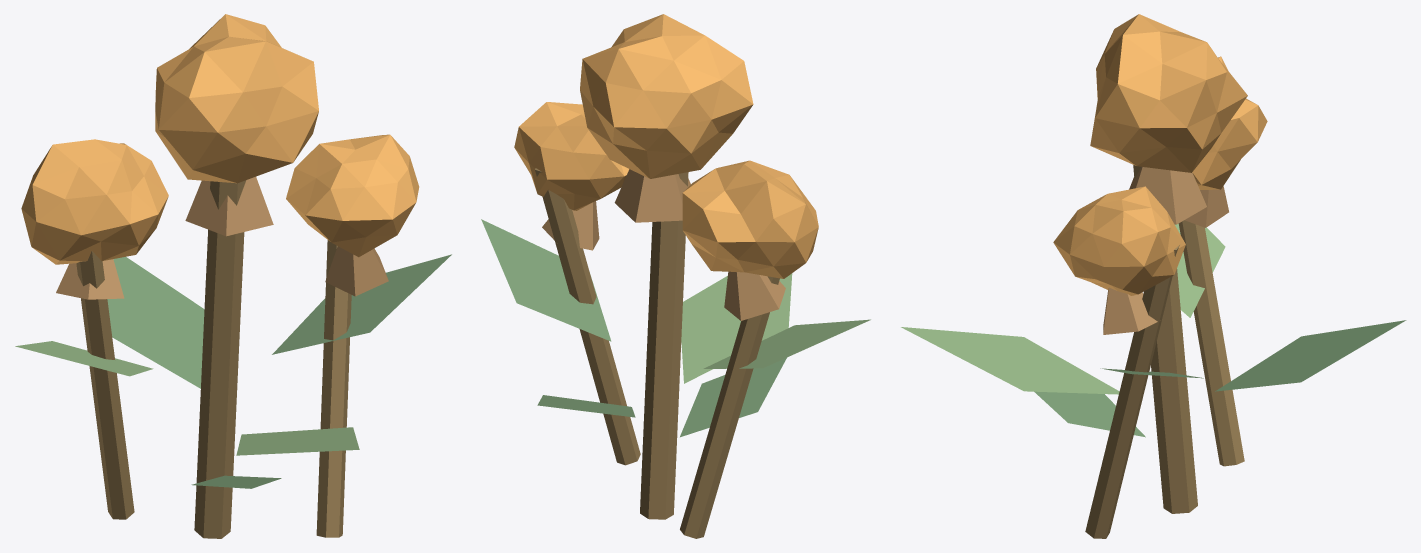
The model's file is t6_fiber_full.glb.
3 views of the same model, side by side, from view 1: azimuth 30°, elevation 25°; view 2: azimuth 150°, elevation 25°; view 3: azimuth 270°, elevation 25° (orthographic). The views are drawn at different scales.
Parts seen in each view (by area): view 1: CenterCottonBoll, LeftCottonBoll, CenterStem, RightCottonBoll, BackLeaf, LeftStem, RightStem, RightLeaf, CenterHusk, FrontLeaf, RightHusk, LeftLeaf (+2 smaller); view 2: CenterCottonBoll, LeftCottonBoll, CenterStem, RightCottonBoll, RightStem, LeftStem, RightLeaf, FrontLeaf, CenterHusk, LowLeaf, LeftLeaf, LeftHusk (+2 smaller); view 3: CenterCottonBoll, RightCottonBoll, CenterStem, FrontLeaf, RightStem, LeftStem, BackLeaf, LeftCottonBoll, CenterHusk, LowLeaf, RightHusk, LeftLeaf (+1 smaller).
Part boxes in pixels (x1,y1,x2,y2): CenterCottonBoll: (155, 14, 318, 183); LeftCottonBoll: (21, 139, 168, 264); CenterStem: (194, 180, 245, 538); RightCottonBoll: (286, 134, 419, 257); BackLeaf: (107, 257, 204, 388); LeftStem: (76, 251, 134, 519); RightStem: (316, 240, 351, 537); RightLeaf: (272, 254, 451, 354); CenterHusk: (185, 176, 273, 236); FrontLeaf: (236, 427, 359, 455); RightHusk: (325, 246, 388, 296); LeftLeaf: (15, 341, 153, 376); CenterCottonBoll: (580, 14, 753, 178); LeftCottonBoll: (682, 160, 818, 278); CenterStem: (640, 172, 688, 519); RightCottonBoll: (514, 102, 629, 210); RightStem: (535, 168, 640, 465); LeftStem: (680, 276, 779, 538); RightLeaf: (481, 219, 611, 341); FrontLeaf: (681, 273, 792, 383); CenterHusk: (614, 169, 690, 222); LowLeaf: (680, 357, 786, 437); LeftLeaf: (703, 319, 870, 368); LeftHusk: (724, 271, 785, 320); CenterCottonBoll: (1090, 14, 1247, 172); RightCottonBoll: (1053, 186, 1185, 295); CenterStem: (1133, 165, 1197, 513); FrontLeaf: (901, 327, 1119, 394); RightStem: (1085, 245, 1179, 538); LeftStem: (1178, 220, 1244, 466); BackLeaf: (1215, 320, 1406, 391); LeftCottonBoll: (1192, 56, 1267, 189); CenterHusk: (1129, 167, 1206, 224); LowLeaf: (1034, 391, 1145, 437); RightHusk: (1103, 287, 1157, 334); LeftLeaf: (1175, 223, 1225, 317).
Size of the model in its own units: 0.9519 by 1.08 by 1.02.
